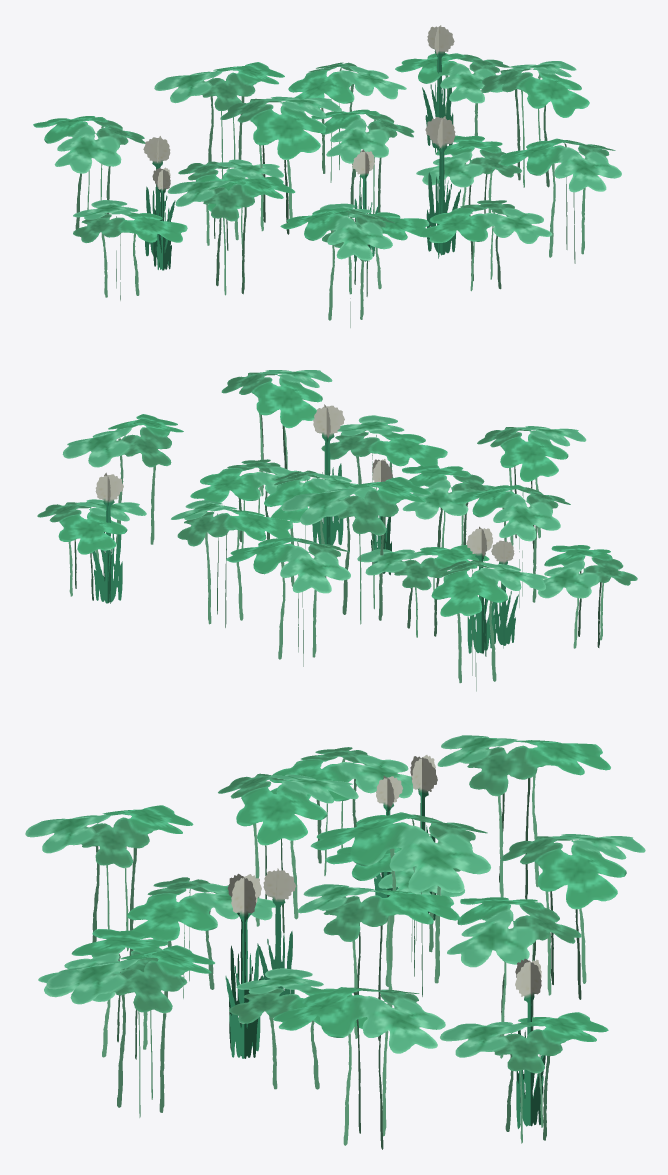
The model's file is SM_ENV_plant_ancient_09_01.fbx.
The picture shows the model from 3 angles, top to bottom: view 1: azimuth 30°, elevation 25°; view 2: azimuth 150°, elevation 25°; view 3: azimuth 270°, elevation 25°; orthographic projection. The views are drawn at different scales.
Visible parts, largest first — view 1: SM_ENV_plant_ancient_09_01_LOD0; view 2: SM_ENV_plant_ancient_09_01_LOD0; view 3: SM_ENV_plant_ancient_09_01_LOD0.
Boxes of the visible parts, x1=… form: SM_ENV_plant_ancient_09_01_LOD0: x1=33, y1=25, x2=621, y2=327; SM_ENV_plant_ancient_09_01_LOD0: x1=37, y1=370, x2=637, y2=691; SM_ENV_plant_ancient_09_01_LOD0: x1=25, y1=735, x2=645, y2=1149.
Bounding box in the file's own units: 89.37 × 22.13 × 67.6.
